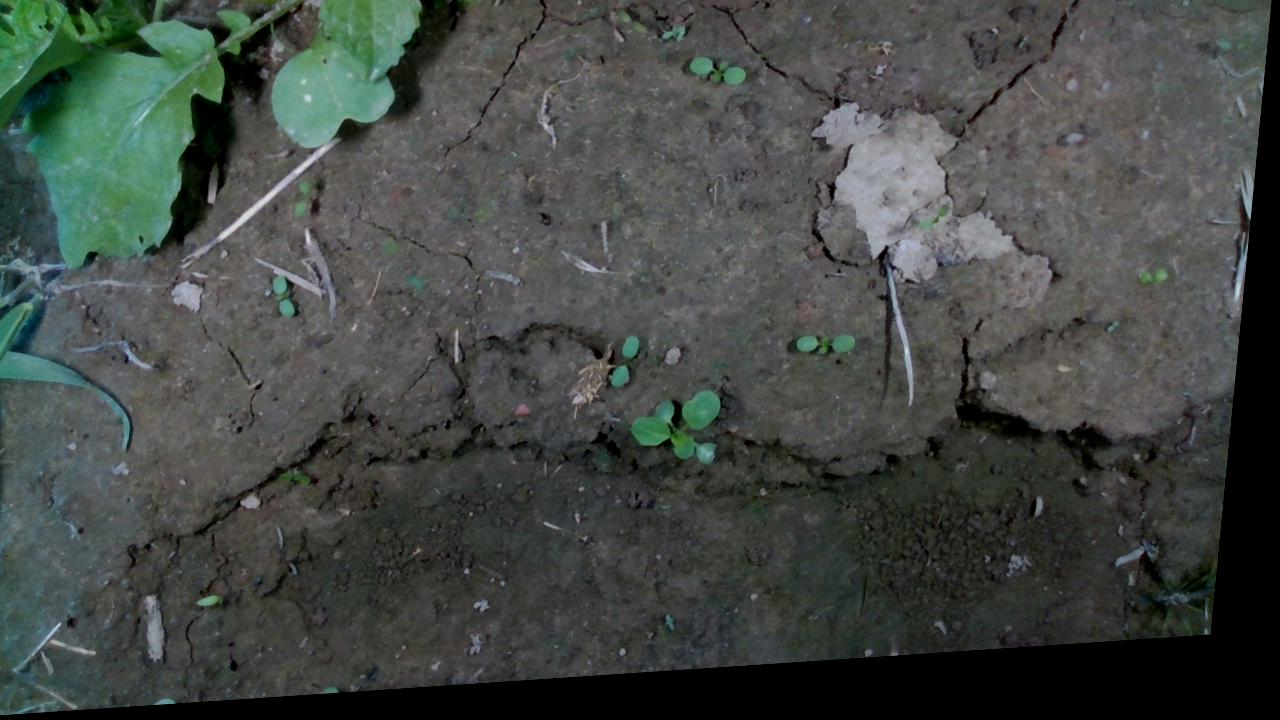weed: (688, 60, 750, 100), (801, 342, 864, 369), (617, 343, 646, 397), (274, 277, 305, 324), (295, 178, 322, 227), (614, 15, 651, 47), (1143, 281, 1175, 300), (1111, 334, 1128, 349), (0, 655, 7, 680)
